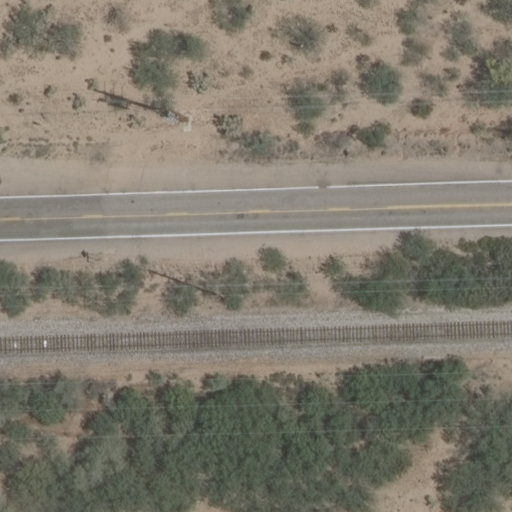DT: (148, 270, 231, 301), (168, 106, 192, 132)
